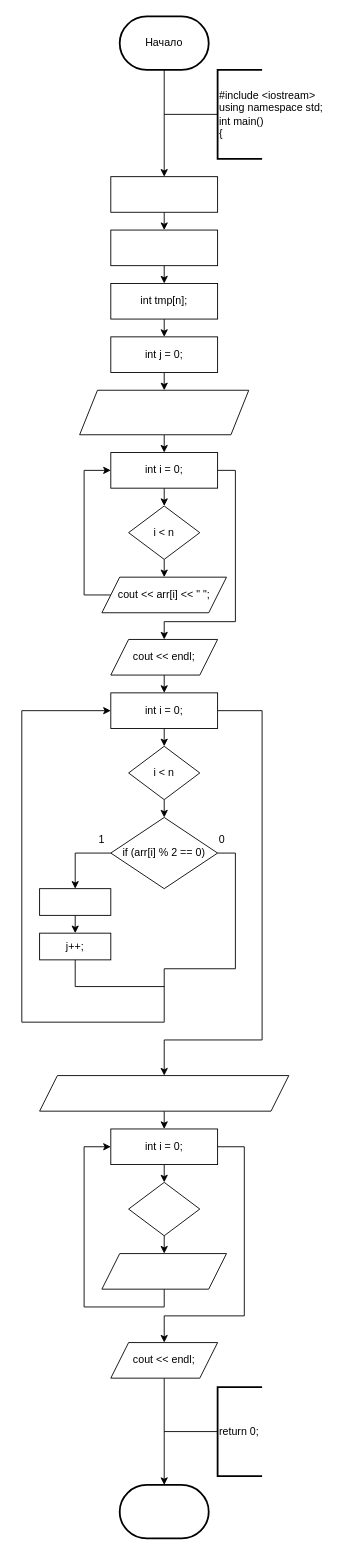
Some shapes in this 339 by 1554 pixel diagram are drawn without their labels. The shapes that lost their labels are listed below. From the top down, each one's centre as x and y in pixels, then its label:
the point at 164,194: const int n = 6;
the point at 164,247: int arr[n] = {1, 2, 3, 4, 5, 6};
the point at 164,412: cout << "Исходный массив: ";
the point at 75,901: tmp[j] = arr[i];
the point at 164,1093: cout << "Массив после удаления нечетных: ";
the point at 164,1208: i < j
the point at 164,1271: cout << tmp[i] << " ";
the point at 163,1511: Конец
